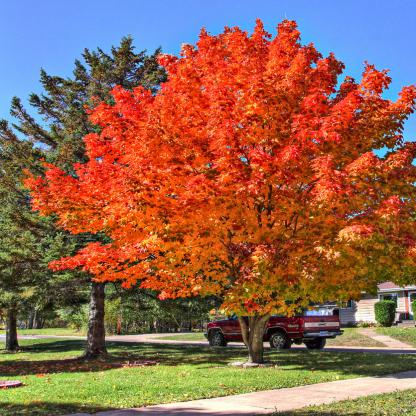Truck: (191, 306, 341, 351)
